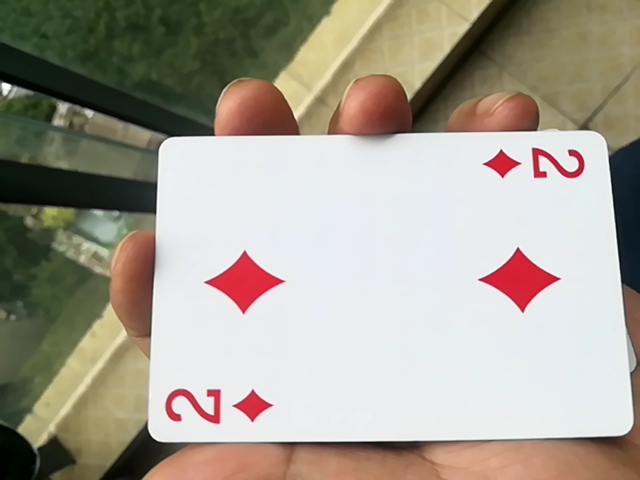fk 2: (132, 123, 619, 466)
